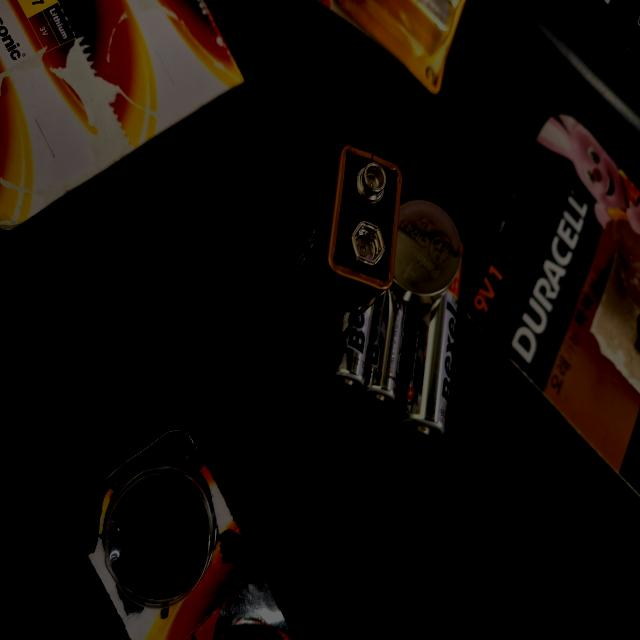9V: (110, 318, 258, 474)
AA: (214, 242, 326, 320)
AAA: (218, 313, 302, 369), (230, 354, 290, 410)
COIN: (150, 238, 228, 332)
